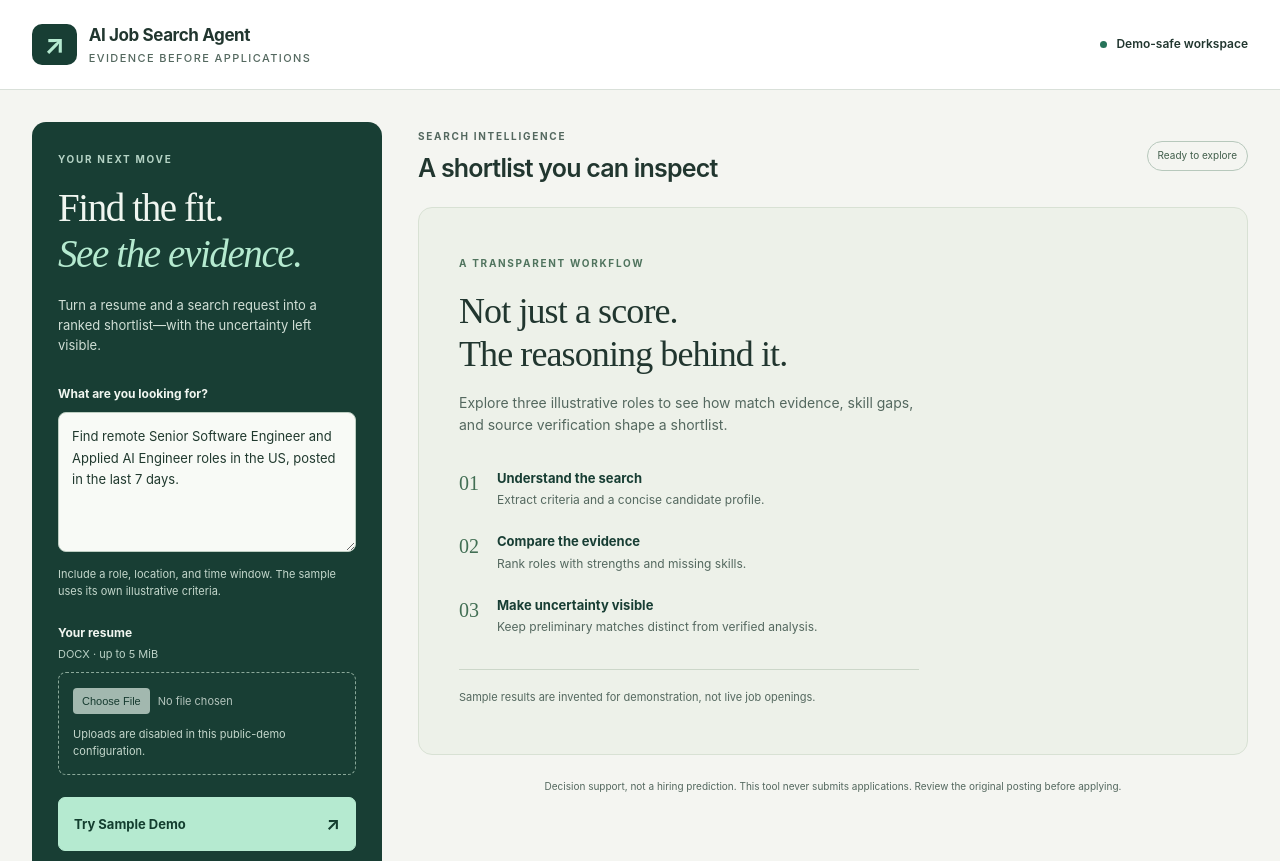
Test: upload and local live access › aborts the browser request on unmount without automatic retry
The image size is (1280, 861).
Click the button "Try Sample Demo ↗".
click(130, 824)  # box [58,797,356,851]
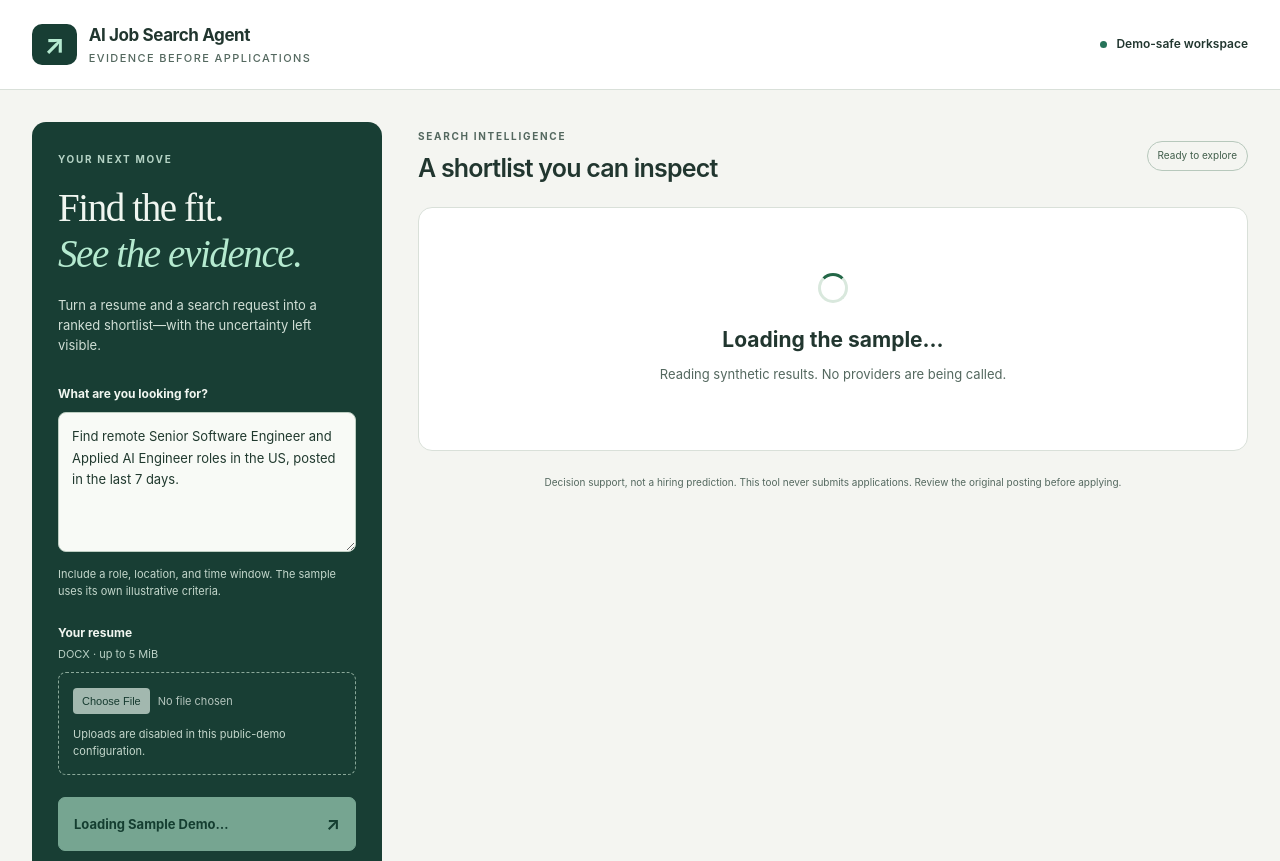
Result: the button "Loading Sample Demo… ↗" is disabled at [58,797,356,851]
